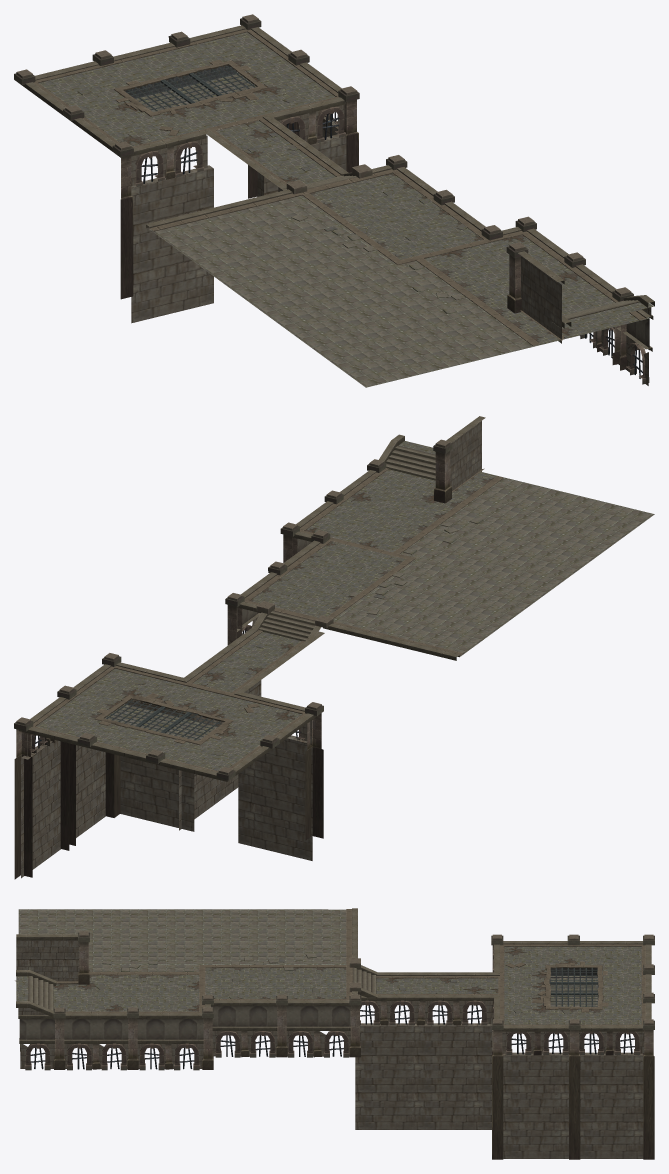
Rendered from common_haigang_guanka01.FBX.
3 renders of one model, top to bottom at view 1: azimuth 30°, elevation 25°; view 2: azimuth 150°, elevation 25°; view 3: azimuth 270°, elevation 25°, orthographic. The views are drawn at different scales.
Parts seen in each view (by area): view 1: common_haigang_guanka01; view 2: common_haigang_guanka01; view 3: common_haigang_guanka01.
Boxes of the visible parts, x1=… form: common_haigang_guanka01: x1=14, y1=14, x2=654, y2=387; common_haigang_guanka01: x1=14, y1=416, x2=654, y2=879; common_haigang_guanka01: x1=15, y1=908, x2=654, y2=1159.
Size of the model in its own units: 55.85 by 134 by 43.02.
